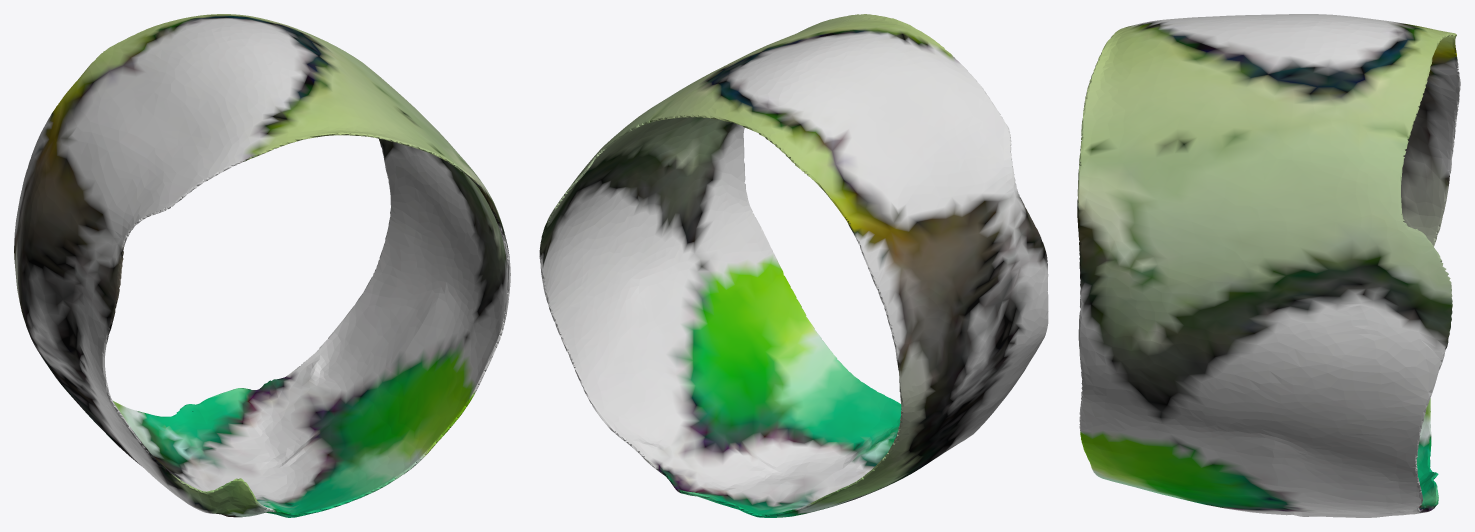
The model's file is ring_halvor.glb.
3 renders of one model, left to right at view 1: azimuth 30°, elevation 25°; view 2: azimuth 150°, elevation 25°; view 3: azimuth 270°, elevation 25°, orthographic. The views are drawn at different scales.
Parts seen in each view (by area): view 1: geometry_0; view 2: geometry_0; view 3: geometry_0.
Boxes of the visible parts, bbox=[...] form: geometry_0: bbox=[14, 14, 510, 517]; geometry_0: bbox=[539, 14, 1048, 517]; geometry_0: bbox=[1077, 14, 1460, 517].
Size of the model in its own units: 0.5938 by 0.6033 by 0.443.
